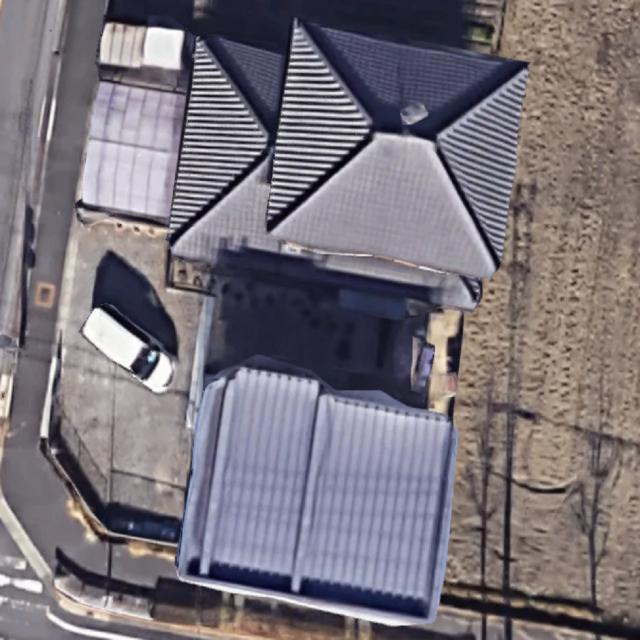Batiment: (169, 36, 481, 312), (178, 366, 458, 624), (266, 20, 528, 277), (82, 81, 185, 221)
